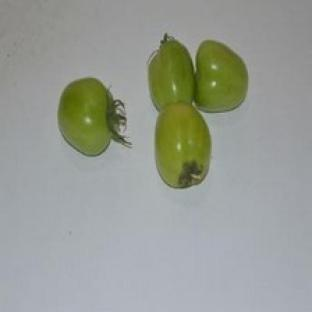Tomato: (58, 77, 128, 155), (155, 102, 211, 188), (195, 41, 247, 111), (148, 35, 194, 111)
